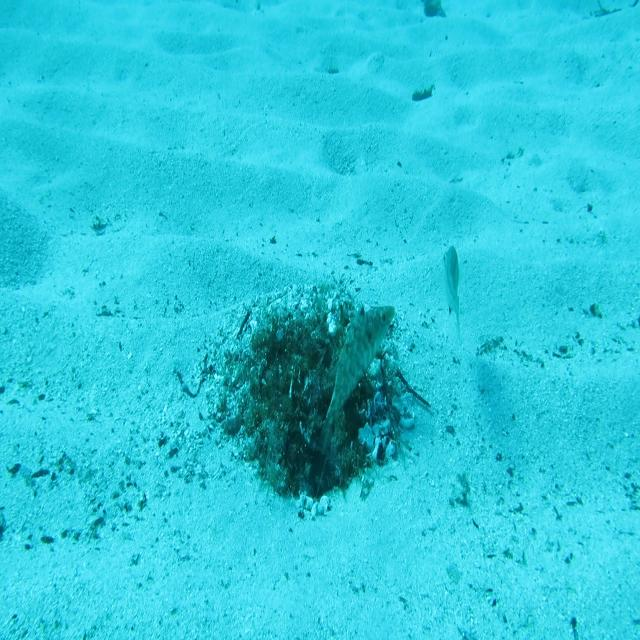MAF: (313, 298, 397, 459)
core_nest: (278, 337, 324, 369)
female: (431, 243, 469, 348)
nest: (204, 267, 424, 526)
vegetation: (411, 83, 436, 107)
